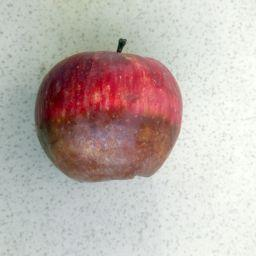apple: (22, 33, 202, 197)
